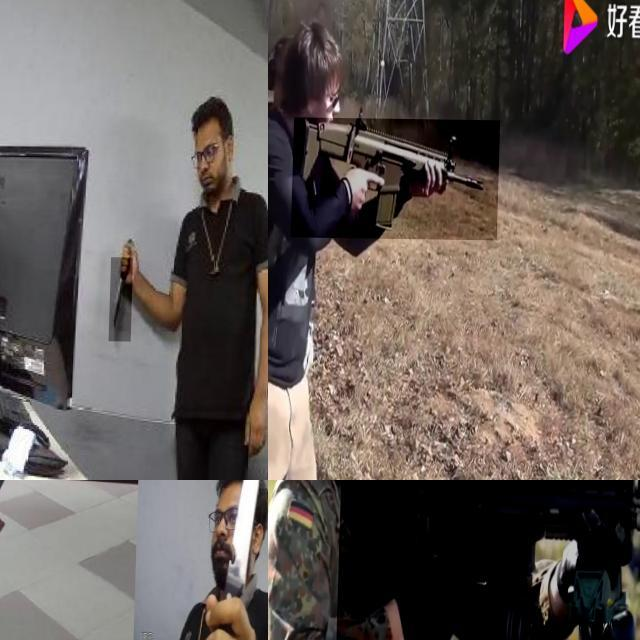-: (214, 480, 268, 599), (0, 480, 47, 537), (112, 256, 136, 341), (0, 480, 12, 492)
gun-knife-thesis - v11 Yolov5 augmented: (337, 480, 640, 640), (293, 117, 502, 239)
